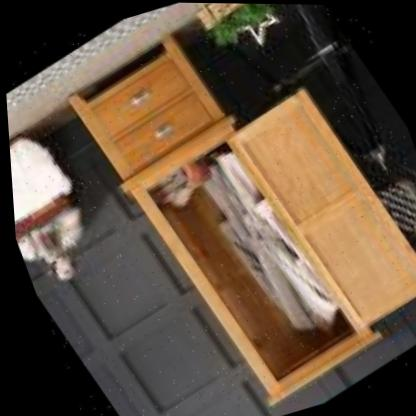Closet: (30, 0, 416, 416)
